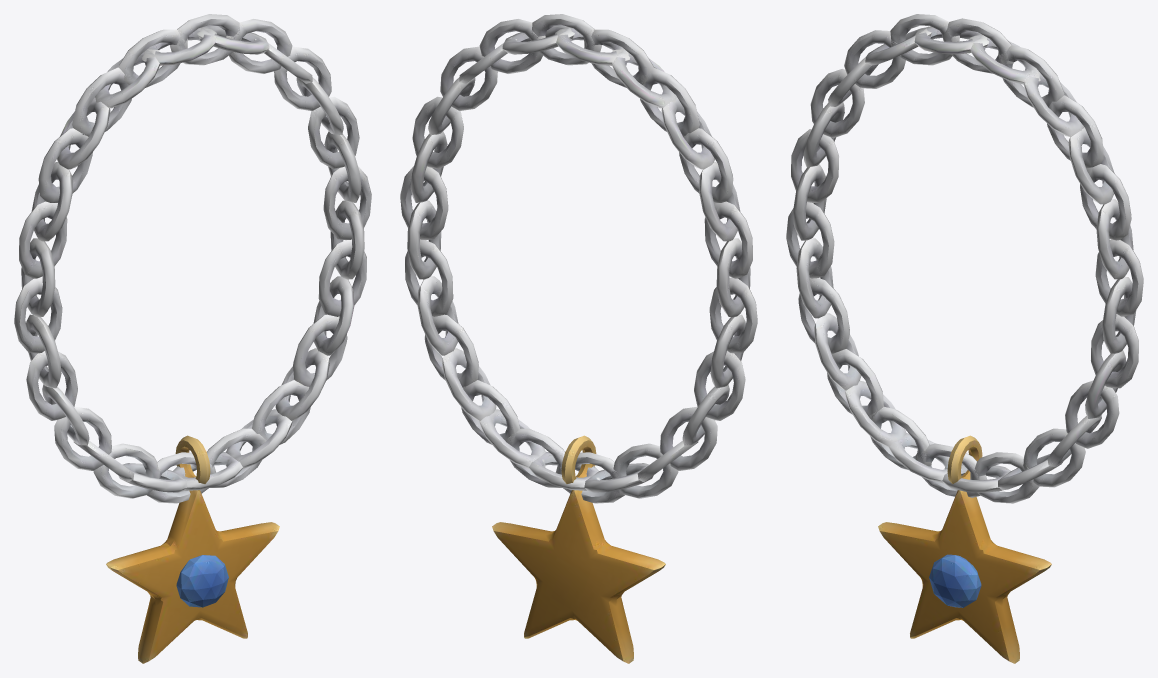
Rendered from star_pendant.glb.
3 views of the same model, side by side, from view 1: azimuth 30°, elevation 25°; view 2: azimuth 150°, elevation 25°; view 3: azimuth 330°, elevation 25° (orthographic).
Parts seen in each view (by area): view 1: star_pendant; view 2: star_pendant; view 3: star_pendant.
Boxes of the visible parts, x1,y1,x2,y2 form: star_pendant: [14, 14, 371, 663]; star_pendant: [400, 14, 757, 663]; star_pendant: [786, 14, 1143, 663].
Size of the model in its own units: 0.172 by 0.2904 by 0.027.
Materials: 1 (1 with a texture image).
